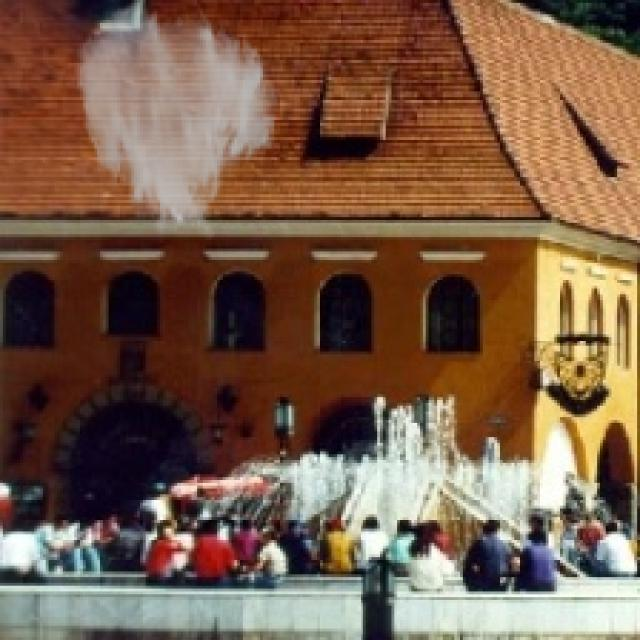Smoke: (74, 0, 280, 243)
